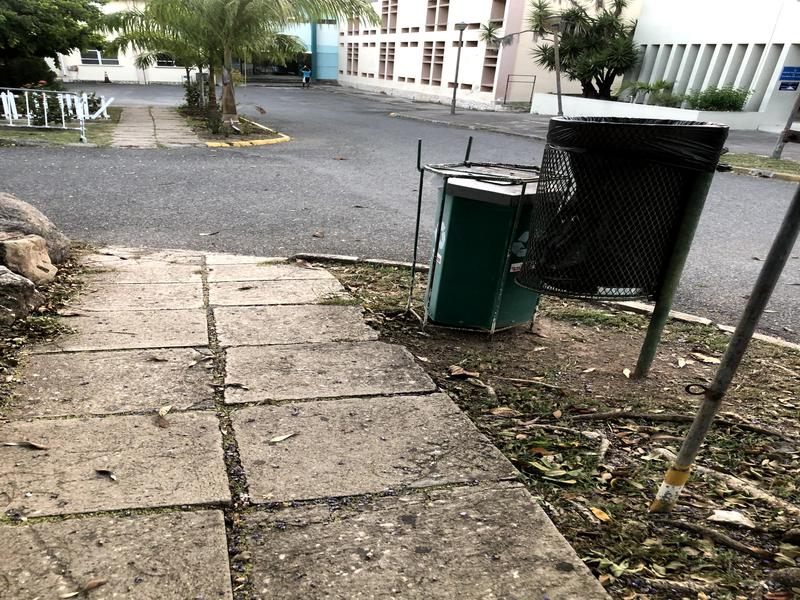18.0053245_-76.7486424_recyclebin: (413, 133, 566, 363)
